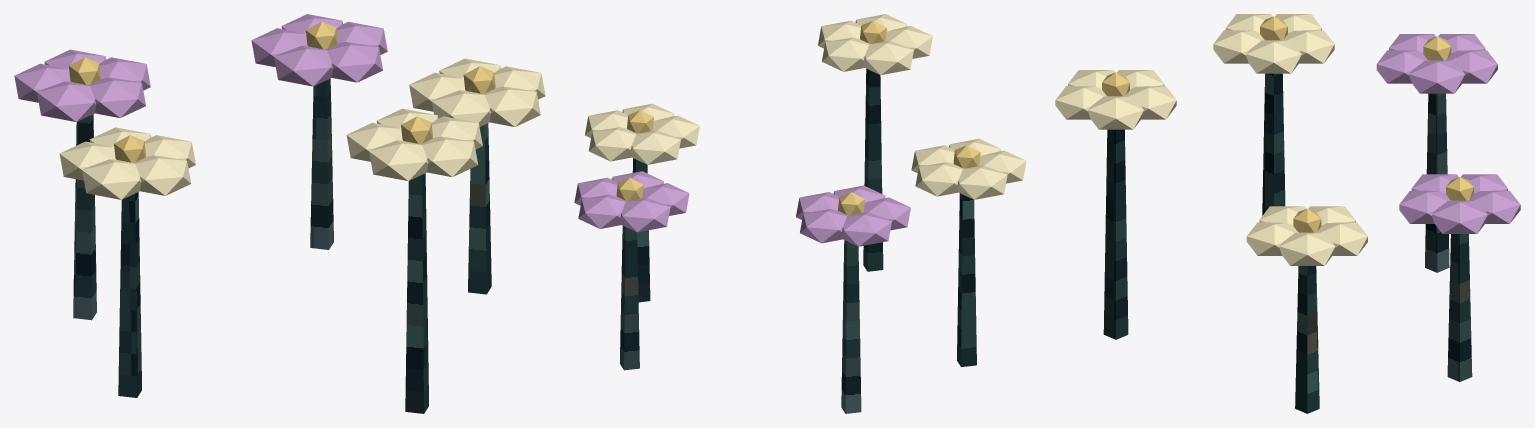
File: enfeite_flores.glb
The picture shows the model from 3 angles, left to right: view 1: azimuth 30°, elevation 25°; view 2: azimuth 150°, elevation 25°; view 3: azimuth 270°, elevation 25°; orthographic projection. The views are drawn at different scales.
Parts seen in each view (by area): view 1: pedreira_enfeite_flores; view 2: pedreira_enfeite_flores; view 3: pedreira_enfeite_flores.
Boxes of the visible parts, x1,y1,x2,y2 form: pedreira_enfeite_flores: (14,14,545,413); pedreira_enfeite_flores: (574,14,1026,413); pedreira_enfeite_flores: (1055,14,1520,413).
Bounding box in the file's own units: 0.366 × 0.211 × 0.339.
Materials: 4 (1 with a texture image).
